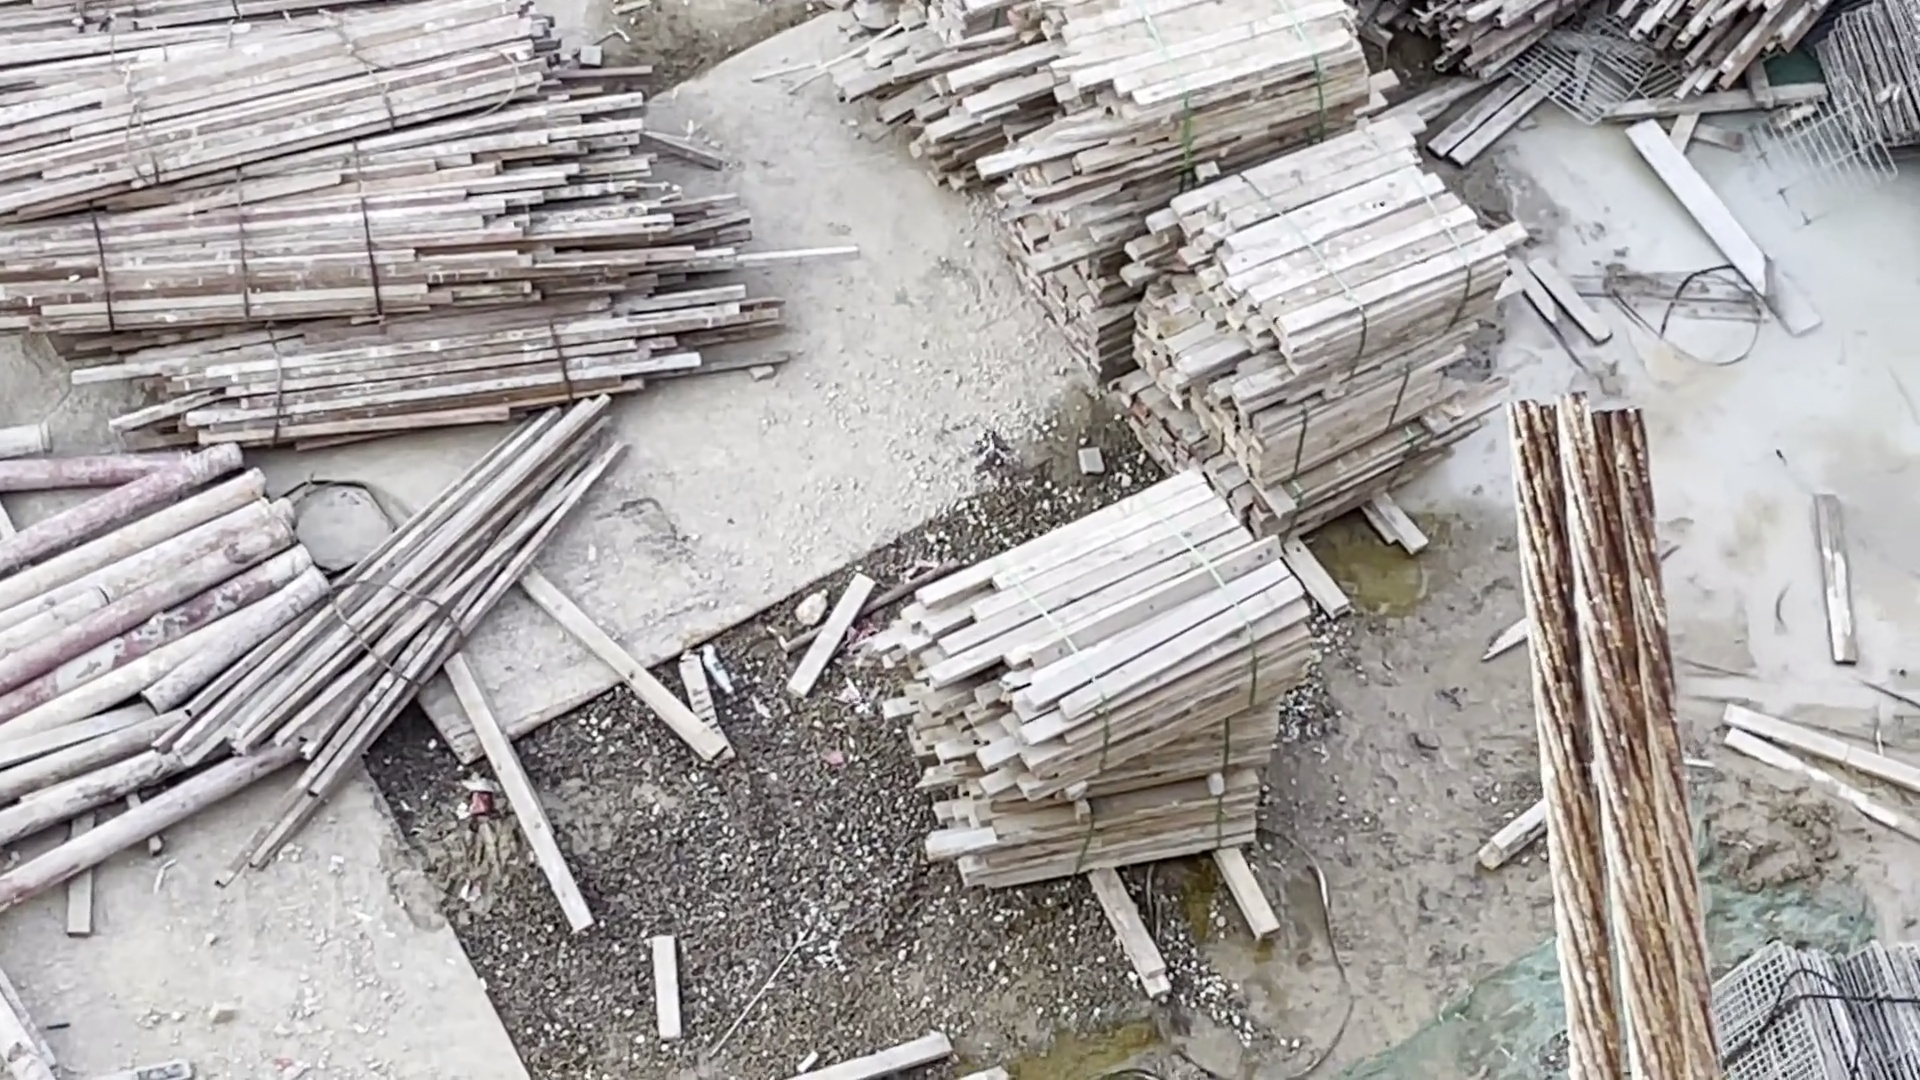wood: (853, 1, 1478, 541), (1, 1, 691, 409), (869, 553, 1276, 891)
